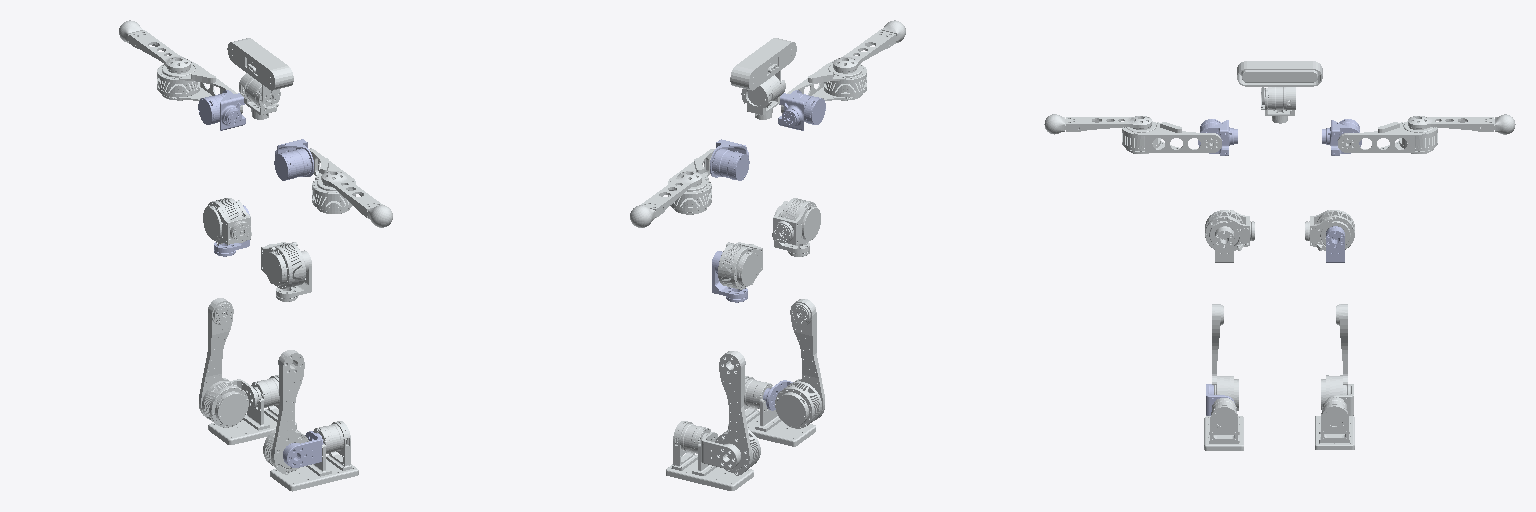
robot.urdf — MOS9.2_urdf_0308-4:
<?xml version='1.0' encoding='utf-8'?>
<robot name="MOS9.2_urdf_0308-4">
  <link name="body">
    <inertial>
      <origin xyz="-0.0182501208826118 -0.00190049970240902 0.0863636963583089" rpy="0 0 0" />
      <mass value="4.35806806126274" />
      <inertia ixx="0.0126554214449882" ixy="-1.94365827372157E-06" ixz="-0.000106200880503345" iyy="0.00838591116778958" iyz="-3.40121566836312E-07" izz="0.00895360202585989" />
    </inertial>
    <visual>
      <origin xyz="0 0 0" rpy="0 0 0" />
      <geometry>
        <mesh filename="../meshes/body.STL" />
      </geometry>
      <material name="">
        <color rgba="0.898039215686275 0.917647058823529 0.929411764705882 1" />
      </material>
    </visual>
    <collision>
      <origin xyz="0 0 0" rpy="0 0 0" />
      <geometry>
        <mesh filename="../meshes/body.STL" />
      </geometry>
    </collision>
  </link>
  <link name="neck">
    <inertial>
      <origin xyz="-0.000187733021383862 0.00313210111852241 0.0367257386628151" rpy="0 0 0" />
      <mass value="0.243152851941267" />
      <inertia ixx="0.000107527809141662" ixy="2.32844382833212E-09" ixz="-3.79598574699867E-07" iyy="0.000106047679861548" iyz="6.89109259403018E-06" izz="0.000100507717987487" />
    </inertial>
    <visual>
      <origin xyz="0 0 0" rpy="0 0 0" />
      <geometry>
        <mesh filename="../meshes/neck.STL" />
      </geometry>
      <material name="">
        <color rgba="0.898039215686275 0.917647058823529 0.929411764705882 1" />
      </material>
    </visual>
    <collision>
      <origin xyz="0 0 0" rpy="0 0 0" />
      <geometry>
        <mesh filename="../meshes/neck.STL" />
      </geometry>
    </collision>
  </link>
  <joint name="b_n" type="continuous">
    <origin xyz="-0.005 0 0.2441" rpy="0 0 0" />
    <parent link="body" />
    <child link="neck" />
    <axis xyz="0 0 -1" />
  </joint>
  <link name="head">
    <inertial>
      <origin xyz="-0.00148614977503109 0.0537575763860302 -0.0296115992755681" rpy="0 0 0" />
      <mass value="0.322467436272026" />
      <inertia ixx="0.000786985359858465" ixy="8.48624102566507E-08" ixz="3.88916575671315E-09" iyy="0.000779452507232674" iyz="-7.57222414279963E-06" izz="9.3920453594969E-05" />
    </inertial>
    <visual>
      <origin xyz="0 0 0" rpy="0 0 0" />
      <geometry>
        <mesh filename="../meshes/head.STL" />
      </geometry>
      <material name="">
        <color rgba="0.898039215686275 0.917647058823529 0.929411764705882 1" />
      </material>
    </visual>
    <collision>
      <origin xyz="0 0 0" rpy="0 0 0" />
      <geometry>
        <mesh filename="../meshes/head.STL" />
      </geometry>
    </collision>
  </link>
  <joint name="n_h" type="continuous">
    <origin xyz="0 -0.033 0.0475" rpy="1.5707963267949 0 0" />
    <parent link="neck" />
    <child link="head" />
    <axis xyz="0 0 -1" />
  </joint>
  <link name="Rshoulder">
    <inertial>
      <origin xyz="-0.00132059633693976 5.62178901126614E-05 -0.0337001041277888" rpy="0 0 0" />
      <mass value="0.244736730758832" />
      <inertia ixx="0.000129373968243136" ixy="-8.60991135369166E-08" ixz="1.2078891148474E-05" iyy="8.79104114782035E-05" iyz="-2.4422653123027E-07" izz="0.000106520121171402" />
    </inertial>
    <visual>
      <origin xyz="0 0 0" rpy="0 0 0" />
      <geometry>
        <mesh filename="../meshes/Rshoulder.STL" />
      </geometry>
      <material name="">
        <color rgba="0.792156862745098 0.819607843137255 0.933333333333333 1" />
      </material>
    </visual>
    <collision>
      <origin xyz="0 0 0" rpy="0 0 0" />
      <geometry>
        <mesh filename="../meshes/Rshoulder.STL" />
      </geometry>
    </collision>
  </link>
  <joint name="b_Rs" type="continuous">
    <origin xyz="-0.0100000000000138 -0.105000000000124 0.192100000000112" rpy="1.5707963267949 0 -3.14159265358979" />
    <parent link="body" />
    <child link="Rshoulder" />
    <axis xyz="0 0 -1" />
  </joint>
  <link name="Rarm">
    <inertial>
      <origin xyz="0.123976619673335 2.3816494963344E-05 0.0179849541694587" rpy="0 0 0" />
      <mass value="0.505922675972045" />
      <inertia ixx="0.000249177335899191" ixy="2.41233180203102E-05" ixz="5.12994020146406E-05" iyy="0.000863279087734146" iyz="8.96071856183868E-06" izz="0.000769798783434279" />
    </inertial>
    <visual>
      <origin xyz="0 0 0" rpy="0 0 0" />
      <geometry>
        <mesh filename="../meshes/Rarm.STL" />
      </geometry>
      <material name="">
        <color rgba="0.898039215686275 0.917647058823529 0.929411764705882 1" />
      </material>
    </visual>
    <collision>
      <origin xyz="0 0 0" rpy="0 0 0" />
      <geometry>
        <mesh filename="../meshes/Rarm.STL" />
      </geometry>
    </collision>
  </link>
  <joint name="Rs_Ra" type="continuous">
    <origin xyz="-0.0250000000000136 0 -0.0489999999998756" rpy="0 1.5707963267949 0" />
    <parent link="Rshoulder" />
    <child link="Rarm" />
    <axis xyz="0 0 1" />
  </joint>
  <link name="Rhand">
    <inertial>
      <origin xyz="0.109240589043814 0.000677471556759845 -0.00178541903634942" rpy="0 0 0" />
      <mass value="0.273862324070502" />
      <inertia ixx="5.2613968285487E-05" ixy="4.01189603422068E-06" ixz="2.85280392770804E-05" iyy="0.000699576611389701" iyz="1.76848091002788E-07" izz="0.000725679519367959" />
    </inertial>
    <visual>
      <origin xyz="0 0 0" rpy="0 0 0" />
      <geometry>
        <mesh filename="../meshes/Rhand.STL" />
      </geometry>
      <material name="">
        <color rgba="0.898039215686275 0.917647058823529 0.929411764705882 1" />
      </material>
    </visual>
    <collision>
      <origin xyz="0 0 0" rpy="0 0 0" />
      <geometry>
        <mesh filename="../meshes/Rhand.STL" />
      </geometry>
    </collision>
  </link>
  <joint name="Ra_Rh" type="continuous">
    <origin xyz="0.16 0.0286499999999997 0.0299999999999999" rpy="1.5707963267949 0 0" />
    <parent link="Rarm" />
    <child link="Rhand" />
    <axis xyz="0 0 -1" />
  </joint>
  <link name="Lshoulder">
    <inertial>
      <origin xyz="0.00132063035506957 5.63171682046171E-05 -0.0337001075421161" rpy="0 0 0" />
      <mass value="0.244736778509988" />
      <inertia ixx="0.000129374049886736" ixy="8.53358338819827E-08" ixz="-1.20789422702937E-05" iyy="8.79120362451655E-05" iyz="-2.4164238223282E-07" izz="0.000106518334762561" />
    </inertial>
    <visual>
      <origin xyz="0 0 0" rpy="0 0 0" />
      <geometry>
        <mesh filename="../meshes/Lshoulder.STL" />
      </geometry>
      <material name="">
        <color rgba="0.792156862745098 0.819607843137255 0.933333333333333 1" />
      </material>
    </visual>
    <collision>
      <origin xyz="0 0 0" rpy="0 0 0" />
      <geometry>
        <mesh filename="../meshes/Lshoulder.STL" />
      </geometry>
    </collision>
  </link>
  <joint name="b_Ls" type="continuous">
    <origin xyz="-0.00999998124092416 0.105000001016346 0.192100005298829" rpy="1.5707963267949 0 0" />
    <parent link="body" />
    <child link="Lshoulder" />
    <axis xyz="0 0 -1" />
  </joint>
  <link name="Larm">
    <inertial>
      <origin xyz="0.123966814199197 2.38166802215833E-05 -0.017975150553097" rpy="0 0 0" />
      <mass value="0.505922690783429" />
      <inertia ixx="0.000249179325079772" ixy="2.41233167513086E-05" ixz="-5.12994012520643E-05" iyy="0.000863279097732329" iyz="-8.96071866395451E-06" izz="0.000769796795530053" />
    </inertial>
    <visual>
      <origin xyz="0 0 0" rpy="0 0 0" />
      <geometry>
        <mesh filename="../meshes/Larm.STL" />
      </geometry>
      <material name="">
        <color rgba="0.898039215686275 0.917647058823529 0.929411764705882 1" />
      </material>
    </visual>
    <collision>
      <origin xyz="0 0 0" rpy="0 0 0" />
      <geometry>
        <mesh filename="../meshes/Larm.STL" />
      </geometry>
    </collision>
  </link>
  <joint name="Ls_La" type="continuous">
    <origin xyz="0.0249999812409242 0 -0.0489999989836545" rpy="0 1.5707963267949 0" />
    <parent link="Lshoulder" />
    <child link="Larm" />
    <axis xyz="0 0 -1" />
  </joint>
  <link name="Lhand">
    <inertial>
      <origin xyz="-0.109242689903327 -2.67381965457503E-08 -0.00178541891944009" rpy="0 0 0" />
      <mass value="0.273862322424458" />
      <inertia ixx="5.25890920084874E-05" ixy="-3.81681361599439E-10" ixz="-2.85285855769356E-05" iyy="0.000699601487073087" iyz="6.71512616747776E-11" izz="0.000725679519010215" />
    </inertial>
    <visual>
      <origin xyz="0 0 0" rpy="0 0 0" />
      <geometry>
        <mesh filename="../meshes/Lhand.STL" />
      </geometry>
      <material name="">
        <color rgba="0.898039215686275 0.917647058823529 0.929411764705882 1" />
      </material>
    </visual>
    <collision>
      <origin xyz="0 0 0" rpy="0 0 0" />
      <geometry>
        <mesh filename="../meshes/Lhand.STL" />
      </geometry>
    </collision>
  </link>
  <joint name="La_Lh" type="continuous">
    <origin xyz="0.16 0.0286500000000008 -0.0299999999999989" rpy="-1.5707963267949 0 3.14159265358979" />
    <parent link="Larm" />
    <child link="Lhand" />
    <axis xyz="0 0 -1" />
  </joint>
  <link name="Rhip">
    <inertial>
      <origin xyz="0.00165224983746645 -0.000153256597703239 -0.04716983324128" rpy="0 0 0" />
      <mass value="0.447922579537738" />
      <inertia ixx="0.000336557260611948" ixy="6.73410632138989E-07" ixz="-1.54851819022286E-07" iyy="0.000175984295076371" iyz="-3.79544774009115E-08" izz="0.00021248524943445" />
    </inertial>
    <visual>
      <origin xyz="0 0 0" rpy="0 0 0" />
      <geometry>
        <mesh filename="../meshes/Rhip.STL" />
      </geometry>
      <material name="">
        <color rgba="0.898039215686275 0.917647058823529 0.929411764705882 1" />
      </material>
    </visual>
    <collision>
      <origin xyz="0 0 0" rpy="0 0 0" />
      <geometry>
        <mesh filename="../meshes/Rhip.STL" />
      </geometry>
    </collision>
  </link>
  <joint name="b_Rh" type="continuous">
    <origin xyz="-0.0150000000000001 -0.0645 -0.0466" rpy="1.5707963267949 0 3.14159265358979" />
    <parent link="body" />
    <child link="Rhip" />
    <axis xyz="0 0 1" />
  </joint>
  <link name="Rlap">
    <inertial>
      <origin xyz="3.09121089836495E-10 -0.031721697647471 0.000916614078336042" rpy="0 0 0" />
      <mass value="0.175119556314121" />
      <inertia ixx="0.000155307669924318" ixy="1.87603158621217E-12" ixz="3.79507968706983E-13" iyy="7.5052789038172E-05" iyz="-3.48905088975491E-05" izz="0.000137460344788302" />
    </inertial>
    <visual>
      <origin xyz="0 0 0" rpy="0 0 0" />
      <geometry>
        <mesh filename="../meshes/Rlap.STL" />
      </geometry>
      <material name="">
        <color rgba="0.898039215686275 0.917647058823529 0.929411764705882 1" />
      </material>
    </visual>
    <collision>
      <origin xyz="0 0 0" rpy="0 0 0" />
      <geometry>
        <mesh filename="../meshes/Rlap.STL" />
      </geometry>
    </collision>
  </link>
  <joint name="Rh_Rl" type="continuous">
    <origin xyz="-0.0275 0 -0.061" rpy="0 1.5707963267949 0" />
    <parent link="Rhip" />
    <child link="Rlap" />
    <axis xyz="0 0 -1" />
  </joint>
  <link name="Rleg1">
    <inertial>
      <origin xyz="0.000530354807968397 -0.00413771934599061 -0.0824206235447885" rpy="0 0 0" />
      <mass value="0.966091751905849" />
      <inertia ixx="0.00165524755190869" ixy="6.84286273811622E-06" ixz="-4.97413624702097E-05" iyy="0.00139196745796225" iyz="7.9840999362446E-05" izz="0.000841039186200865" />
    </inertial>
    <visual>
      <origin xyz="0 0 0" rpy="0 0 0" />
      <geometry>
        <mesh filename="../meshes/Rleg1.STL" />
      </geometry>
      <material name="">
        <color rgba="0.898039215686275 0.917647058823529 0.929411764705882 1" />
      </material>
    </visual>
    <collision>
      <origin xyz="0 0 0" rpy="0 0 0" />
      <geometry>
        <mesh filename="../meshes/Rleg1.STL" />
      </geometry>
    </collision>
  </link>
  <joint name="Rl_Rl1" type="continuous">
    <origin xyz="0 -0.063 0.0280000000000001" rpy="1.5707963267949 0 3.14159265358979" />
    <parent link="Rlap" />
    <child link="Rleg1" />
    <axis xyz="0 0 -1" />
  </joint>
  <link name="Rleg2">
    <inertial>
      <origin xyz="-0.00407191869623438 -0.135567799725998 -0.00123327776602503" rpy="0 0 0" />
      <mass value="0.624084469676422" />
      <inertia ixx="0.00145322270859193" ixy="0.00017224973098276" ixz="-4.17604226750762E-06" iyy="0.000231800595801017" iyz="-3.19103261849037E-05" izz="0.00164919662535833" />
    </inertial>
    <visual>
      <origin xyz="0 0 0" rpy="0 0 0" />
      <geometry>
        <mesh filename="../meshes/Rleg2.STL" />
      </geometry>
      <material name="">
        <color rgba="0.898039215686275 0.917647058823529 0.929411764705882 1" />
      </material>
    </visual>
    <collision>
      <origin xyz="0 0 0" rpy="0 0 0" />
      <geometry>
        <mesh filename="../meshes/Rleg2.STL" />
      </geometry>
    </collision>
  </link>
  <joint name="Rl1_Rl2" type="continuous">
    <origin xyz="-0.00900000000000004 0 -0.146" rpy="1.5707963267949 0 -1.5707963267949" />
    <parent link="Rleg1" />
    <child link="Rleg2" />
    <axis xyz="0 0 -1" />
  </joint>
  <link name="Rankle">
    <inertial>
      <origin xyz="0.0321512482443131 -4.59865812096893E-10 -0.00303590911349036" rpy="0 0 0" />
      <mass value="0.187524858365076" />
      <inertia ixx="8.43581348561701E-05" ixy="-5.54891405587586E-12" ixz="-5.16990624082217E-05" iyy="0.000197060970011504" iyz="4.7559976232924E-12" izz="0.000176852205140379" />
    </inertial>
    <visual>
      <origin xyz="0 0 0" rpy="0 0 0" />
      <geometry>
        <mesh filename="../meshes/Rankle.STL" />
      </geometry>
      <material name="">
        <color rgba="0.792156862745098 0.819607843137255 0.933333333333333 1" />
      </material>
    </visual>
    <collision>
      <origin xyz="0 0 0" rpy="0 0 0" />
      <geometry>
        <mesh filename="../meshes/Rankle.STL" />
      </geometry>
    </collision>
  </link>
  <joint name="Rl2_Ra" type="continuous">
    <origin xyz="0 -0.2 0.0177999999999997" rpy="0 0 0" />
    <parent link="Rleg2" />
    <child link="Rankle" />
    <axis xyz="0 0 -1" />
  </joint>
  <link name="Rfoot">
    <inertial>
      <origin xyz="8.61075291624935E-09 -0.0355878322875397 0.0190508449468564" rpy="0 0 0" />
      <mass value="0.444249339436953" />
      <inertia ixx="0.000484874156663831" ixy="-1.04013978438541E-09" ixz="8.17922954088945E-12" iyy="0.000600950991503066" iyz="3.7593433377245E-06" izz="0.00032562953876197" />
    </inertial>
    <visual>
      <origin xyz="0 0 0" rpy="0 0 0" />
      <geometry>
        <mesh filename="../meshes/Rfoot.STL" />
      </geometry>
      <material name="">
        <color rgba="0.898039215686275 0.917647058823529 0.929411764705882 1" />
      </material>
    </visual>
    <collision>
      <origin xyz="0 0 0" rpy="0 0 0" />
      <geometry>
        <mesh filename="../meshes/Rfoot.STL" />
      </geometry>
    </collision>
  </link>
  <joint name="Ra_Rf" type="continuous">
    <origin xyz="0.0689999999999583 0 -0.0259999999999973" rpy="0 1.5707963267949 0" />
    <parent link="Rankle" />
    <child link="Rfoot" />
    <axis xyz="0 0 1" />
  </joint>
  <link name="Lhip">
    <inertial>
      <origin xyz="0.00165224894900179 -7.3220696434062E-05 0.0471698378385199" rpy="0 0 0" />
      <mass value="0.447922591167837" />
      <inertia ixx="0.000336557268700897" ixy="6.73410419859425E-07" ixz="1.54852005222124E-07" iyy="0.000175984305860162" iyz="4.25225663555847E-08" izz="0.00021248524919222" />
    </inertial>
    <visual>
      <origin xyz="0 0 0" rpy="0 0 0" />
      <geometry>
        <mesh filename="../meshes/Lhip.STL" />
      </geometry>
      <material name="">
        <color rgba="0.898039215686275 0.917647058823529 0.929411764705882 1" />
      </material>
    </visual>
    <collision>
      <origin xyz="0 0 0" rpy="0 0 0" />
      <geometry>
        <mesh filename="../meshes/Lhip.STL" />
      </geometry>
    </collision>
  </link>
  <joint name="b_Lh" type="continuous">
    <origin xyz="-0.0150000000000001 0.0645 -0.0466" rpy="1.5707963267949 0 3.14159265358979" />
    <parent link="body" />
    <child link="Lhip" />
    <axis xyz="0 0 -1" />
  </joint>
  <link name="Llap">
    <inertial>
      <origin xyz="3.09119480013109E-10 -0.0317216976474549 0.00091661407832061" rpy="0 0 0" />
      <mass value="0.175119556314121" />
      <inertia ixx="0.000155307669924318" ixy="1.87603139572582E-12" ixz="3.79508076653435E-13" iyy="7.5052789038172E-05" iyz="-3.48905088975491E-05" izz="0.000137460344788301" />
    </inertial>
    <visual>
      <origin xyz="0 0 0" rpy="0 0 0" />
      <geometry>
        <mesh filename="../meshes/Llap.STL" />
      </geometry>
      <material name="">
        <color rgba="0.792156862745098 0.819607843137255 0.933333333333333 1" />
      </material>
    </visual>
    <collision>
      <origin xyz="0 0 0" rpy="0 0 0" />
      <geometry>
        <mesh filename="../meshes/Llap.STL" />
      </geometry>
    </collision>
  </link>
  <joint name="Lh_Ll" type="continuous">
    <origin xyz="-0.027499999999988 9.99999999794776E-05 0.0609999999999988" rpy="0 1.5707963267949 0" />
    <parent link="Lhip" />
    <child link="Llap" />
    <axis xyz="0 0 -1" />
  </joint>
  <link name="Lleg1">
    <inertial>
      <origin xyz="-0.000535781615046887 -0.00413973081999081 -0.0824206486794982" rpy="0 0 0" />
      <mass value="0.966092683290071" />
      <inertia ixx="0.00165521762552366" ixy="-6.82778477112363E-06" ixz="4.97314795751503E-05" iyy="0.00139199006627133" iyz="7.98067807966714E-05" izz="0.000841059727133304" />
    </inertial>
    <visual>
      <origin xyz="0 0 0" rpy="0 0 0" />
      <geometry>
        <mesh filename="../meshes/Lleg1.STL" />
      </geometry>
      <material name="">
        <color rgba="0.898039215686275 0.917647058823529 0.929411764705882 1" />
      </material>
    </visual>
    <collision>
      <origin xyz="0 0 0" rpy="0 0 0" />
      <geometry>
        <mesh filename="../meshes/Lleg1.STL" />
      </geometry>
    </collision>
  </link>
  <joint name="Ll_Ll1" type="continuous">
    <origin xyz="0 -0.0629999999999796 0.0279999999999841" rpy="1.5707963267949 0 3.14159265358979" />
    <parent link="Llap" />
    <child link="Lleg1" />
    <axis xyz="0 0 -1" />
  </joint>
  <link name="Lleg2">
    <inertial>
      <origin xyz="0.0040643776620283 -0.135558974776272 -0.00123327766586004" rpy="0 0 0" />
      <mass value="0.624084469535357" />
      <inertia ixx="0.00145348876804195" ixy="-0.0001722077363818" ixz="4.17604198693121E-06" iyy="0.000231534517074698" iyz="-3.19103262868342E-05" izz="0.00164919660589498" />
    </inertial>
    <visual>
      <origin xyz="0 0 0" rpy="0 0 0" />
      <geometry>
        <mesh filename="../meshes/Lleg2.STL" />
      </geometry>
      <material name="">
        <color rgba="0.898039215686275 0.917647058823529 0.929411764705882 1" />
      </material>
    </visual>
    <collision>
      <origin xyz="0 0 0" rpy="0 0 0" />
      <geometry>
        <mesh filename="../meshes/Lleg2.STL" />
      </geometry>
    </collision>
  </link>
  <joint name="Ll1_Ll2" type="continuous">
    <origin xyz="0.00900000000000006 0 -0.146" rpy="1.5707963267949 0 1.5707963267949" />
    <parent link="Lleg1" />
    <child link="Lleg2" />
    <axis xyz="0 0 -1" />
  </joint>
  <link name="Lankle">
    <inertial>
      <origin xyz="-0.0321512482442743 6.91723612318285E-05 -0.00313158675555364" rpy="0 0 0" />
      <mass value="0.187524858365075" />
      <inertia ixx="8.43581348561703E-05" ixy="-5.54891369083716E-12" ixz="5.16990624082219E-05" iyy="0.000197060970011504" iyz="-4.75599754806032E-12" izz="0.000176852205140379" />
    </inertial>
    <visual>
      <origin xyz="0 0 0" rpy="0 0 0" />
      <geometry>
        <mesh filename="../meshes/Lankle.STL" />
      </geometry>
      <material name="">
        <color rgba="0.898039215686275 0.917647058823529 0.929411764705882 1" />
      </material>
    </visual>
    <collision>
      <origin xyz="0 0 0" rpy="0 0 0" />
      <geometry>
        <mesh filename="../meshes/Lankle.STL" />
      </geometry>
    </collision>
  </link>
  <joint name="Ll2_La" type="continuous">
    <origin xyz="0 -0.2 0.0177999999999994" rpy="0 0 0" />
    <parent link="Lleg2" />
    <child link="Lankle" />
    <axis xyz="0 0 -1" />
  </joint>
  <link name="Lfoot">
    <inertial>
      <origin xyz="-8.61075105662579E-09 -0.0355878322875431 -0.0190508449499858" rpy="0 0 0" />
      <mass value="0.444249339436954" />
      <inertia ixx="0.000484874156663831" ixy="1.04013978438732E-09" ixz="8.17922940305474E-12" iyy="0.000600950991503065" iyz="-3.75934333772457E-06" izz="0.000325629538761971" />
    </inertial>
    <visual>
      <origin xyz="0 0 0" rpy="0 0 0" />
      <geometry>
        <mesh filename="../meshes/Lfoot.STL" />
      </geometry>
      <material name="">
        <color rgba="0.898039215686275 0.917647058823529 0.929411764705882 1" />
      </material>
    </visual>
    <collision>
      <origin xyz="0 0 0" rpy="0 0 0" />
      <geometry>
        <mesh filename="../meshes/Lfoot.STL" />
      </geometry>
    </collision>
  </link>
  <joint name="La_Lf" type="continuous">
    <origin xyz="-0.068999999995933 0.00155678563569939 -0.0281533249166232" rpy="0 1.5707963267949 0" />
    <parent link="Lankle" />
    <child link="Lfoot" />
    <axis xyz="0 0 -1" />
  </joint>
</robot>

--- What the picture shows (computed from the rendered views, not written in the file) ---
The picture shows the robot from 3 angles, left to right: view 1: azimuth 30°, elevation 25°; view 2: azimuth 150°, elevation 25°; view 3: azimuth 270°, elevation 25°; orthographic projection.
Model MOS9.2_urdf_0308-4 with 21 links and 20 joints (20 continuous), rooted at body, posed every joint at zero.
Visible links, largest first — view 1: Lleg2, Rfoot, Rleg2, head, Lfoot, Lhip, Larm, Rhip, Rhand, Lhand, Rarm, Lshoulder (+4 smaller); view 2: Rleg2, Lleg2, Lfoot, Rfoot, head, Rhip, Rarm, Lhip, Lhand, Rhand, Larm, Rshoulder (+4 smaller); view 3: head, Rarm, Larm, Rfoot, Lfoot, Lhand, Rhand, Rhip, Lhip, Rleg2, Lleg2, neck (+4 smaller).
Link boxes in pixels (box(x1,y1,x2,y2)): Lleg2: box(199, 298, 248, 427); Rfoot: box(270, 421, 358, 491); Rleg2: box(263, 350, 308, 474); head: box(227, 38, 293, 105); Lfoot: box(208, 375, 296, 444); Lhip: box(203, 198, 251, 244); Larm: box(157, 61, 242, 113); Rhip: box(261, 242, 305, 288); Rhand: box(321, 171, 392, 227); Lhand: box(119, 20, 190, 73); Rarm: box(309, 148, 355, 213); Lshoulder: box(198, 90, 245, 130); Rleg2: box(775, 299, 824, 428); Lleg2: box(715, 351, 760, 475); Lfoot: box(666, 421, 753, 490); Rfoot: box(728, 376, 815, 446); head: box(730, 38, 796, 90); Rhip: box(772, 198, 820, 244); Rarm: box(781, 61, 866, 113); Lhip: box(718, 242, 762, 289); Lhand: box(630, 171, 701, 227); Rhand: box(833, 20, 905, 73); Larm: box(668, 149, 714, 214); Rshoulder: box(778, 90, 825, 130); head: box(1237, 61, 1322, 104); Rarm: box(1122, 121, 1221, 153); Larm: box(1338, 121, 1437, 153); Rfoot: box(1204, 398, 1243, 450); Lfoot: box(1315, 397, 1354, 449); Lhand: box(1408, 114, 1515, 134); Rhand: box(1044, 114, 1151, 134); Rhip: box(1205, 210, 1254, 250); Lhip: box(1305, 210, 1354, 250); Rleg2: box(1212, 304, 1238, 410); Lleg2: box(1321, 304, 1347, 409); neck: box(1261, 87, 1295, 123).
Bounding box of the posed robot: 0.189 × 1.07 × 0.9017 m (x, y, z).
Meshes: 21 distinct files referenced, 18 mesh visuals loaded (18 binary STL); not drawn: 3 (reference not matched to a file when rendering).
